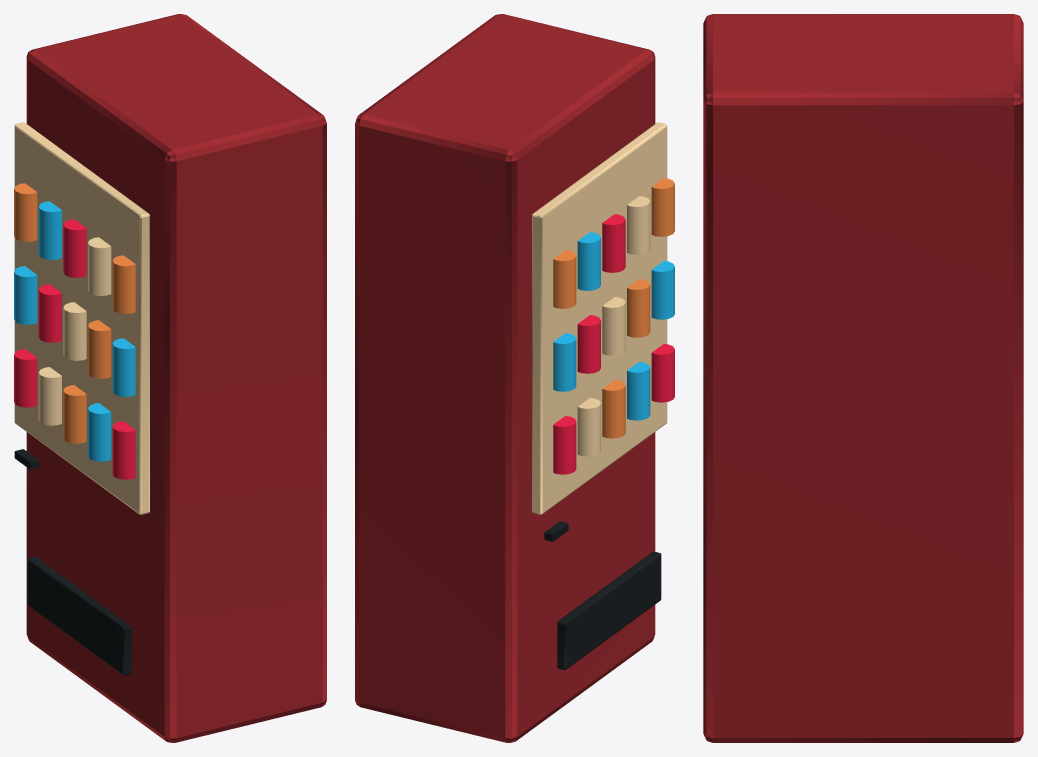
Rendered from tokyo-vending.glb.
3 renders of one model, left to right at view 1: azimuth 30°, elevation 25°; view 2: azimuth 150°, elevation 25°; view 3: azimuth 270°, elevation 25°, orthographic. The views are drawn at different scales.
Visible parts, largest first — view 1: tokyo-vending/Japanese drink vending machine, tokyo-vending/Vending machine illuminated display, tokyo-vending/Vending machine delivery slot, tokyo-vending/Drink can behind vending window, tokyo-vending/Drink can behind vending window.002, tokyo-vending/Drink can behind vending window.006, tokyo-vending/Drink can behind vending window.007, tokyo-vending/Drink can behind vending window.008, tokyo-vending/Drink can behind vending window.009, tokyo-vending/Drink can behind vending window.013, tokyo-vending/Drink can behind vending window.014, tokyo-vending/Drink can behind vending window.001 (+6 smaller); view 2: tokyo-vending/Japanese drink vending machine, tokyo-vending/Vending machine illuminated display, tokyo-vending/Vending machine delivery slot, tokyo-vending/Drink can behind vending window.011, tokyo-vending/Drink can behind vending window.006, tokyo-vending/Drink can behind vending window.007, tokyo-vending/Drink can behind vending window.001, tokyo-vending/Drink can behind vending window.004, tokyo-vending/Drink can behind vending window.008, tokyo-vending/Drink can behind vending window.009, tokyo-vending/Drink can behind vending window.010, tokyo-vending/Drink can behind vending window.012 (+6 smaller); view 3: tokyo-vending/Japanese drink vending machine.
Part boxes in pixels (x1,y1,x2,y2): tokyo-vending/Japanese drink vending machine: (26, 14, 326, 742); tokyo-vending/Vending machine illuminated display: (14, 122, 149, 514); tokyo-vending/Vending machine delivery slot: (27, 556, 131, 675); tokyo-vending/Drink can behind vending window: (112, 421, 135, 479); tokyo-vending/Drink can behind vending window.002: (63, 385, 86, 443); tokyo-vending/Drink can behind vending window.006: (88, 320, 111, 378); tokyo-vending/Drink can behind vending window.007: (63, 302, 86, 360); tokyo-vending/Drink can behind vending window.008: (38, 284, 61, 342); tokyo-vending/Drink can behind vending window.009: (14, 266, 37, 324); tokyo-vending/Drink can behind vending window.013: (38, 201, 61, 259); tokyo-vending/Drink can behind vending window.014: (14, 183, 37, 241); tokyo-vending/Drink can behind vending window.001: (88, 403, 111, 461); tokyo-vending/Japanese drink vending machine: (355, 14, 655, 742); tokyo-vending/Vending machine illuminated display: (532, 122, 667, 514); tokyo-vending/Vending machine delivery slot: (557, 551, 661, 669); tokyo-vending/Drink can behind vending window.011: (627, 196, 650, 254); tokyo-vending/Drink can behind vending window.006: (627, 279, 650, 337); tokyo-vending/Drink can behind vending window.007: (602, 297, 625, 355); tokyo-vending/Drink can behind vending window.001: (627, 362, 650, 420); tokyo-vending/Drink can behind vending window.004: (553, 416, 576, 474); tokyo-vending/Drink can behind vending window.008: (577, 315, 600, 373); tokyo-vending/Drink can behind vending window.009: (553, 333, 576, 391); tokyo-vending/Drink can behind vending window.010: (651, 178, 674, 236); tokyo-vending/Drink can behind vending window.012: (602, 214, 625, 272); tokyo-vending/Japanese drink vending machine: (703, 14, 1023, 742).
Bounding box in the file's own units: 0.643 × 1.86 × 0.83.
